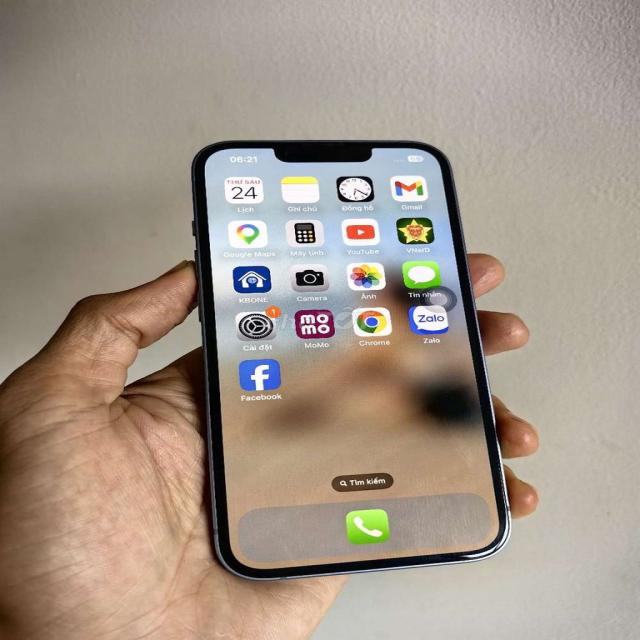gen_14: (185, 123, 517, 583)
